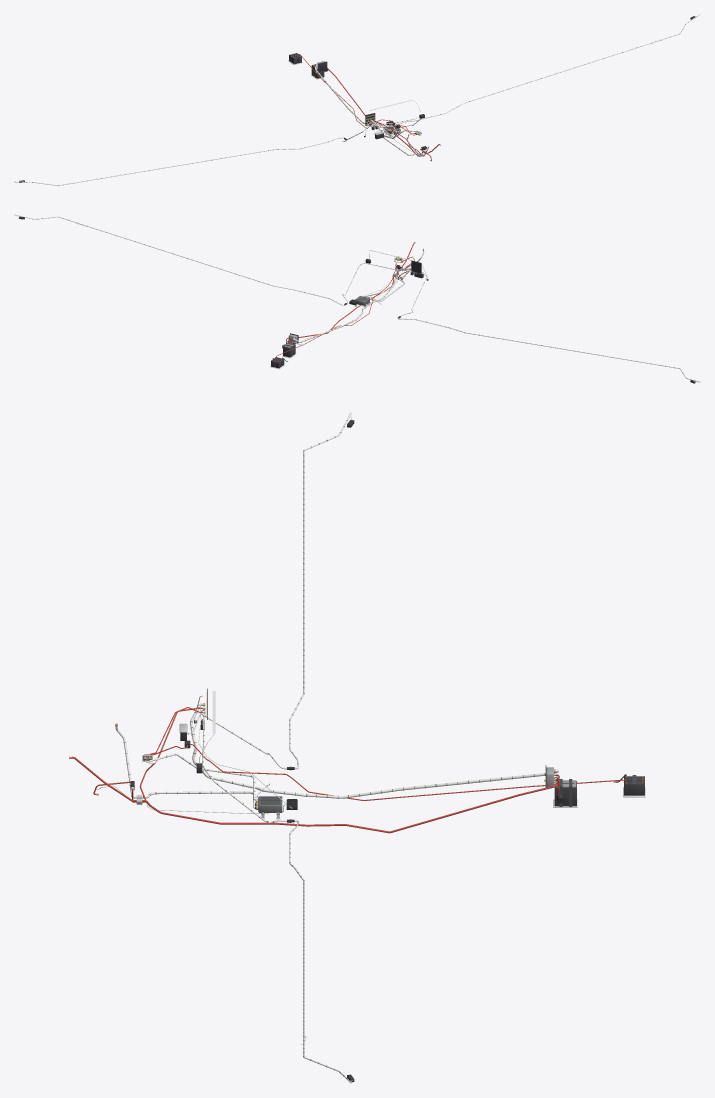
File: da40-electrical.glb
3 renders of one model, top to bottom at view 1: azimuth 30°, elevation 25°; view 2: azimuth 150°, elevation 25°; view 3: azimuth 270°, elevation 25°, orthographic. The views are drawn at different scales.
Visible parts, largest first — view 1: Wing lighting harness RH (wing side), Wing lighting harness LH (wing side); view 2: Wing lighting harness LH (wing side), Wing lighting harness RH (wing side), Main wiring harness (relay junction box → circuit-breaker pa; view 3: Main wiring harness (relay junction box → circuit-breaker pa, Starter cable (relay junction box → starter relay).
Boxes of the visible parts, x1=… form: Wing lighting harness RH (wing side): x1=14, y1=137, x2=343, y2=185; Wing lighting harness LH (wing side): x1=397, y1=14, x2=700, y2=124; Wing lighting harness LH (wing side): x1=14, y1=214, x2=344, y2=305; Wing lighting harness RH (wing side): x1=397, y1=318, x2=700, y2=382; Main wiring harness (relay junction box → circuit-breaker pa: x1=293, y1=268, x2=411, y2=342; Main wiring harness (relay junction box → circuit-breaker pa: x1=190, y1=703, x2=558, y2=798; Starter cable (relay junction box → starter relay): x1=69, y1=756, x2=558, y2=833.
Size of the model in its own units: 11.48 by 0.8128 by 4.18.
